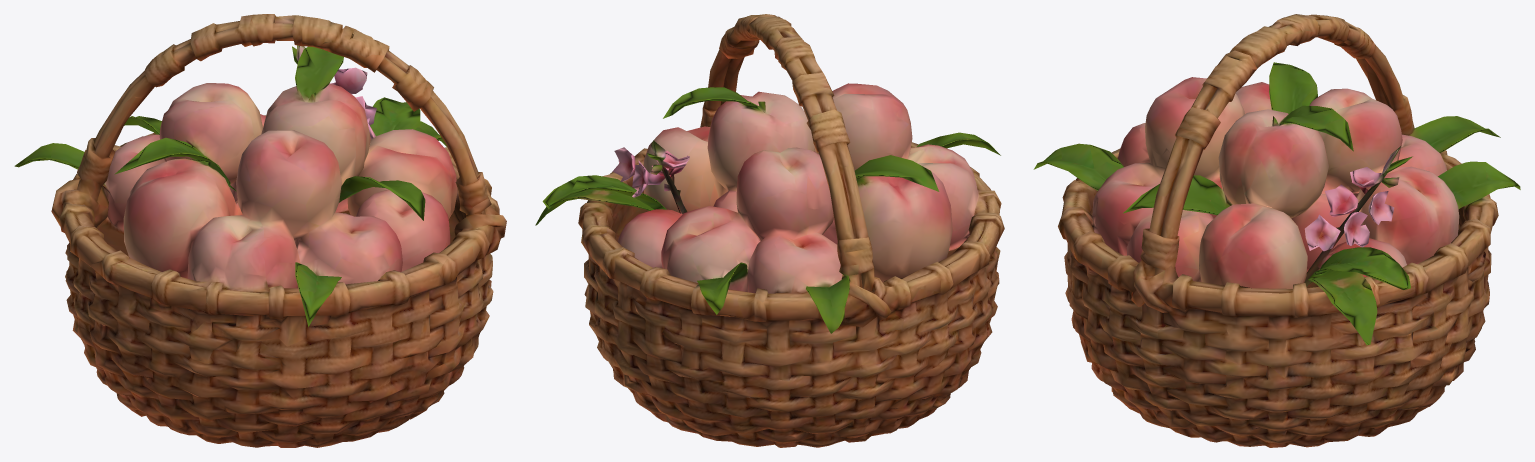
The model's file is x_peaches.glb.
3 views of the same model, side by side, from view 1: azimuth 30°, elevation 25°; view 2: azimuth 150°, elevation 25°; view 3: azimuth 270°, elevation 25° (orthographic). The views are drawn at different scales.
Visible parts, largest first — view 1: tripo_node_4cd95319-3091-47fd-87ce-c41449ace4b0; view 2: tripo_node_4cd95319-3091-47fd-87ce-c41449ace4b0; view 3: tripo_node_4cd95319-3091-47fd-87ce-c41449ace4b0.
Part boxes in pixels (<box>): tripo_node_4cd95319-3091-47fd-87ce-c41449ace4b0: <box>14,14,506,447</box>; tripo_node_4cd95319-3091-47fd-87ce-c41449ace4b0: <box>535,14,1004,447</box>; tripo_node_4cd95319-3091-47fd-87ce-c41449ace4b0: <box>1033,14,1520,447</box>.
Size of the model in its own units: 0.9601 by 0.8165 by 1.
Materials: 1 (1 with a texture image).
